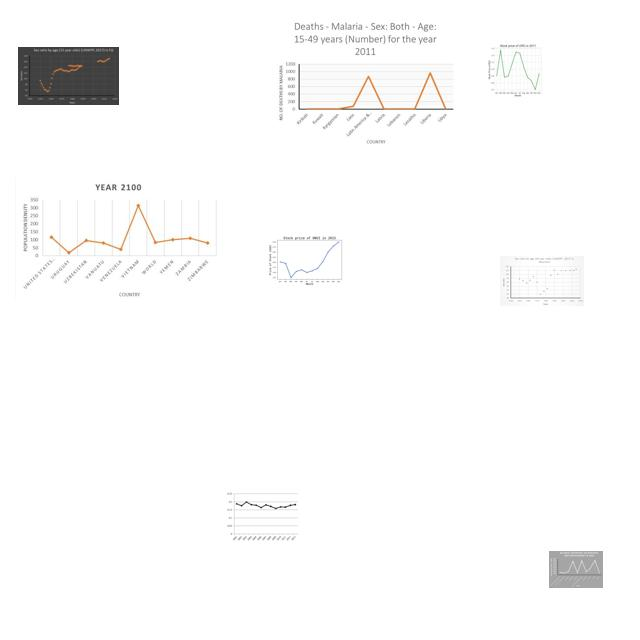Graph: (15, 178, 222, 299), (274, 17, 458, 149), (18, 47, 119, 105), (267, 231, 350, 288), (479, 41, 555, 98), (500, 256, 584, 306), (227, 492, 298, 543), (549, 551, 603, 588)
